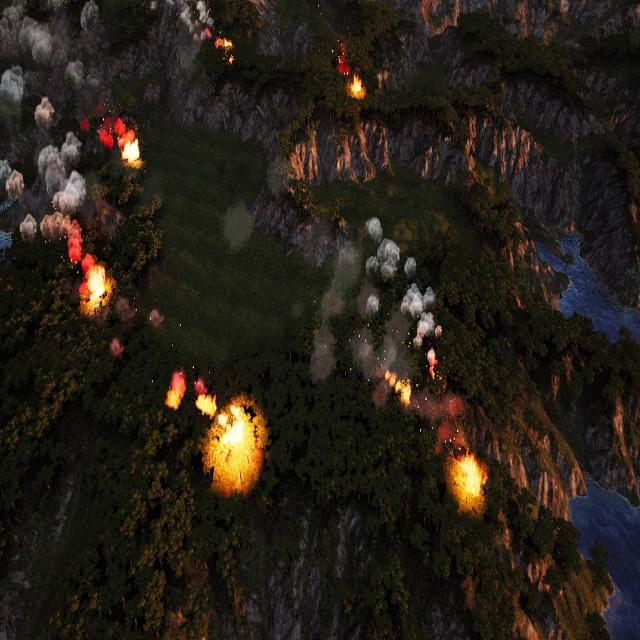fire: (206, 402, 259, 484), (98, 118, 142, 164), (453, 454, 485, 499), (385, 364, 413, 409), (84, 262, 111, 304), (166, 373, 187, 410), (215, 34, 236, 65), (350, 78, 364, 99)
smoke: (0, 0, 100, 260), (309, 212, 441, 380), (179, 0, 213, 40)
